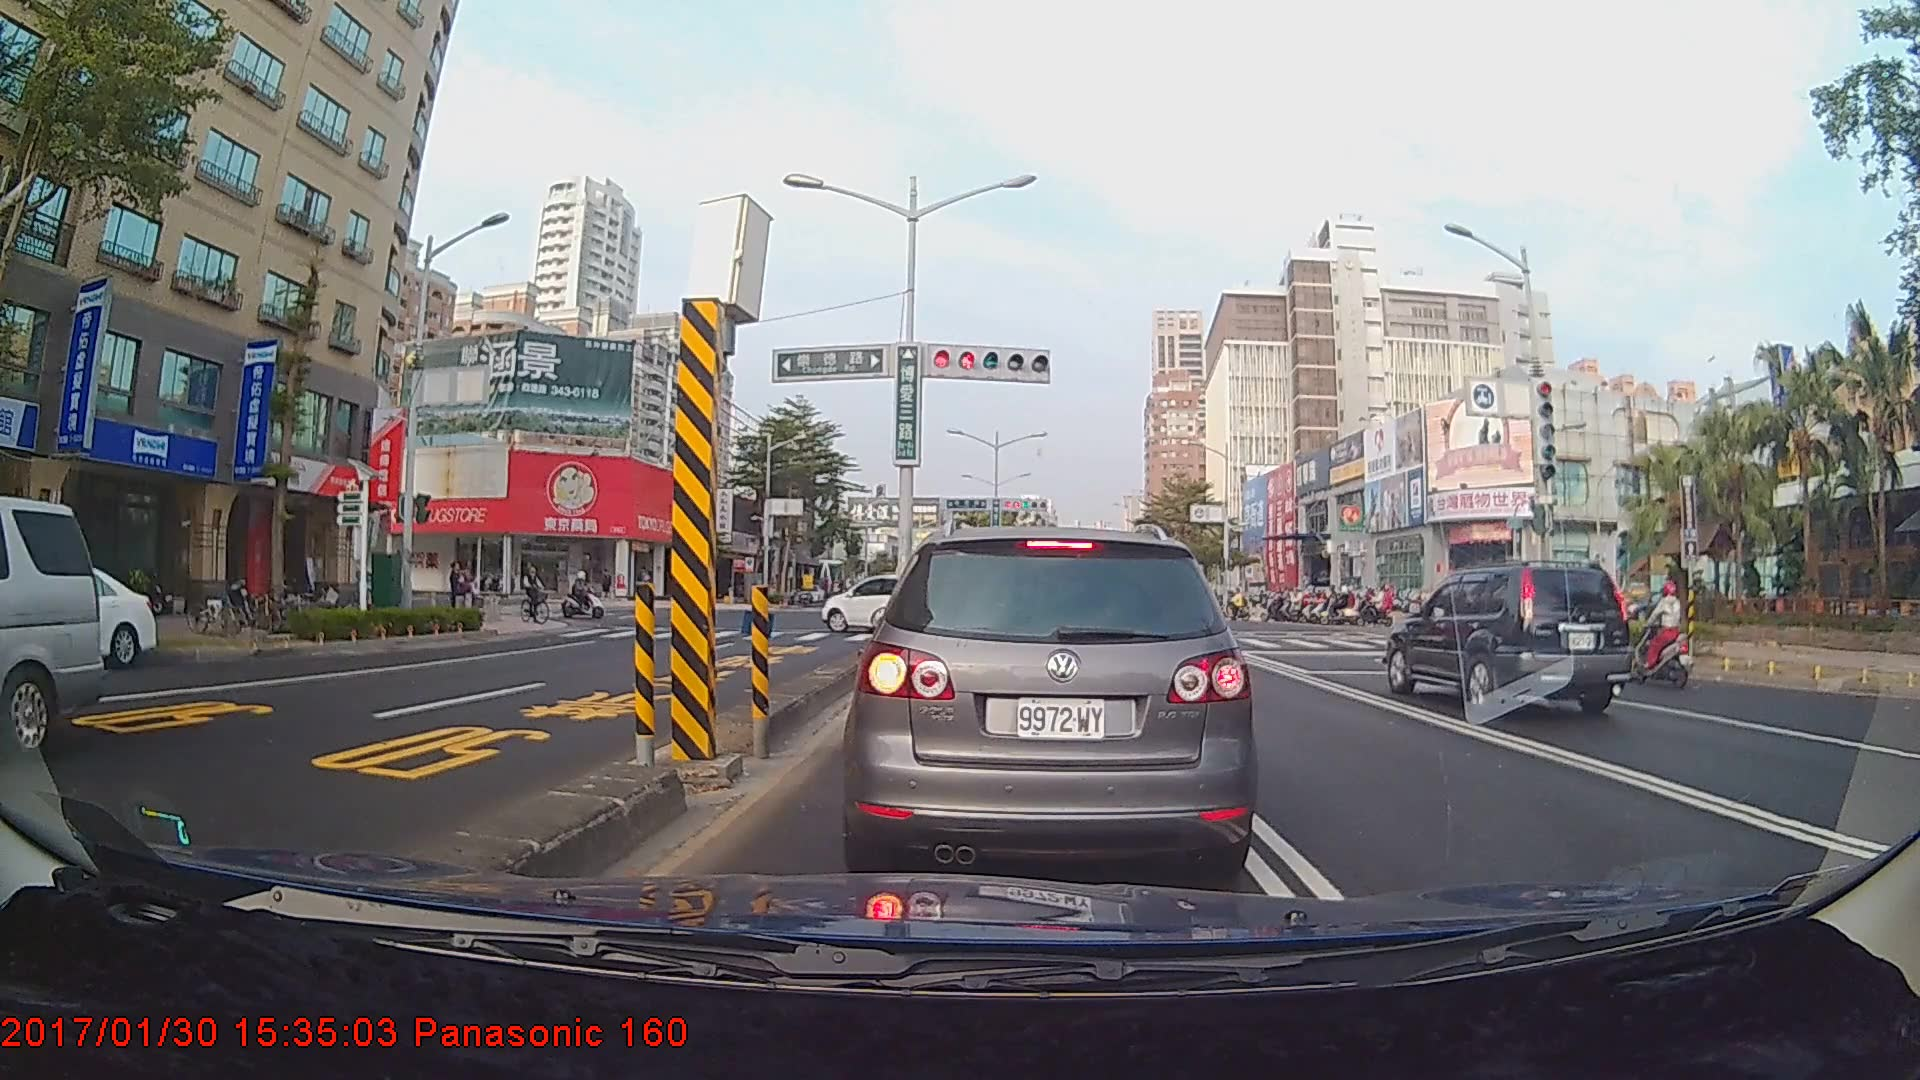pedestrian: (447, 563, 467, 620)
rider: (1624, 572, 1703, 690), (562, 566, 609, 619), (522, 566, 551, 627)
vehicle: (837, 514, 1260, 882), (1378, 558, 1629, 716), (0, 490, 103, 763), (0, 562, 158, 674), (820, 573, 939, 634)
